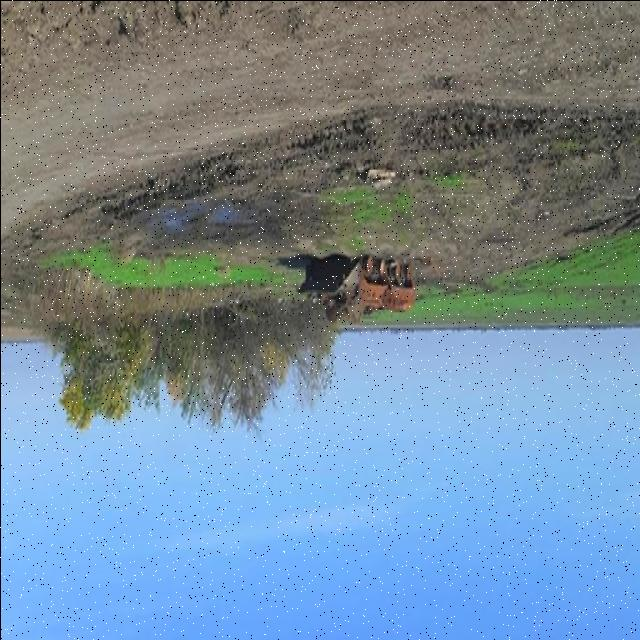APC-IFV: (295, 240, 419, 336)
